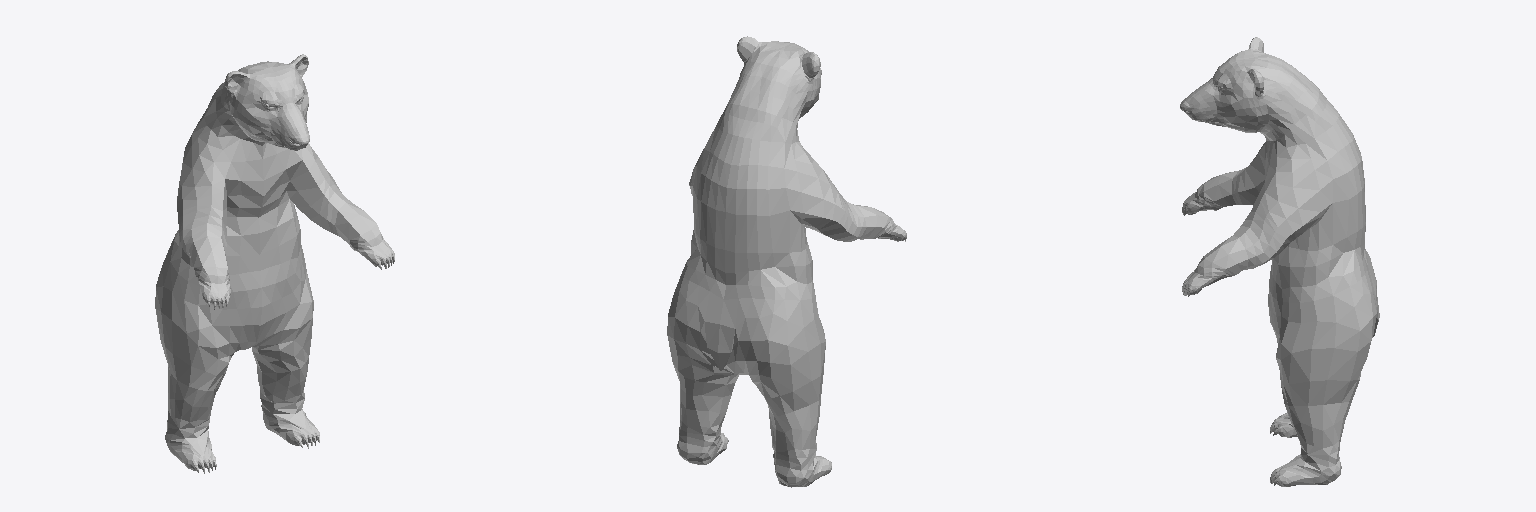
File: BEAR_PL1.OBJ
The picture shows the model from 3 angles: view 1: azimuth 30°, elevation 25°; view 2: azimuth 150°, elevation 25°; view 3: azimuth 270°, elevation 25°; orthographic projection.
Parts seen in each view (by area): view 1: pbr1_body; view 2: pbr1_body; view 3: pbr1_body.
Boxes of the visible parts, x1=… form: pbr1_body: x1=155, y1=54, x2=394, y2=473; pbr1_body: x1=667, y1=36, x2=906, y2=487; pbr1_body: x1=1180, y1=37, x2=1379, y2=486.
Size of the model in its own units: 1.32 by 2.69 by 1.2.